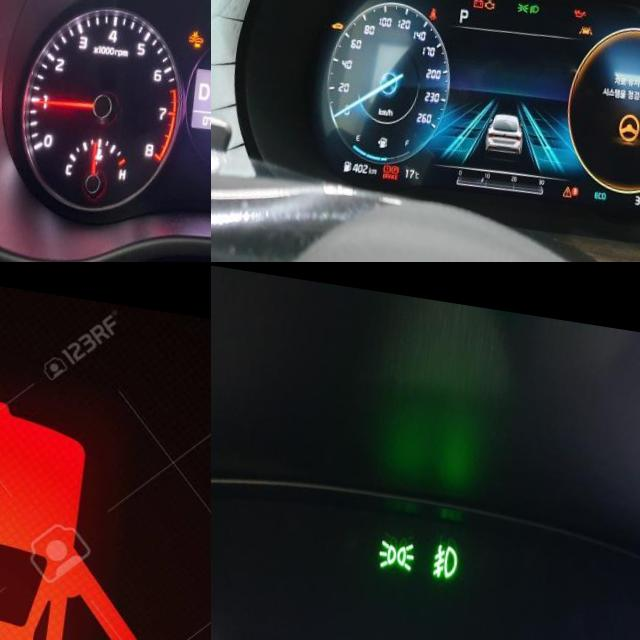Central Warning lamp: (573, 172, 583, 185)
FrontFogLight: (438, 532, 466, 571)
LaneCenteringOff: (584, 11, 598, 22)
SideLamp: (383, 529, 423, 563)
